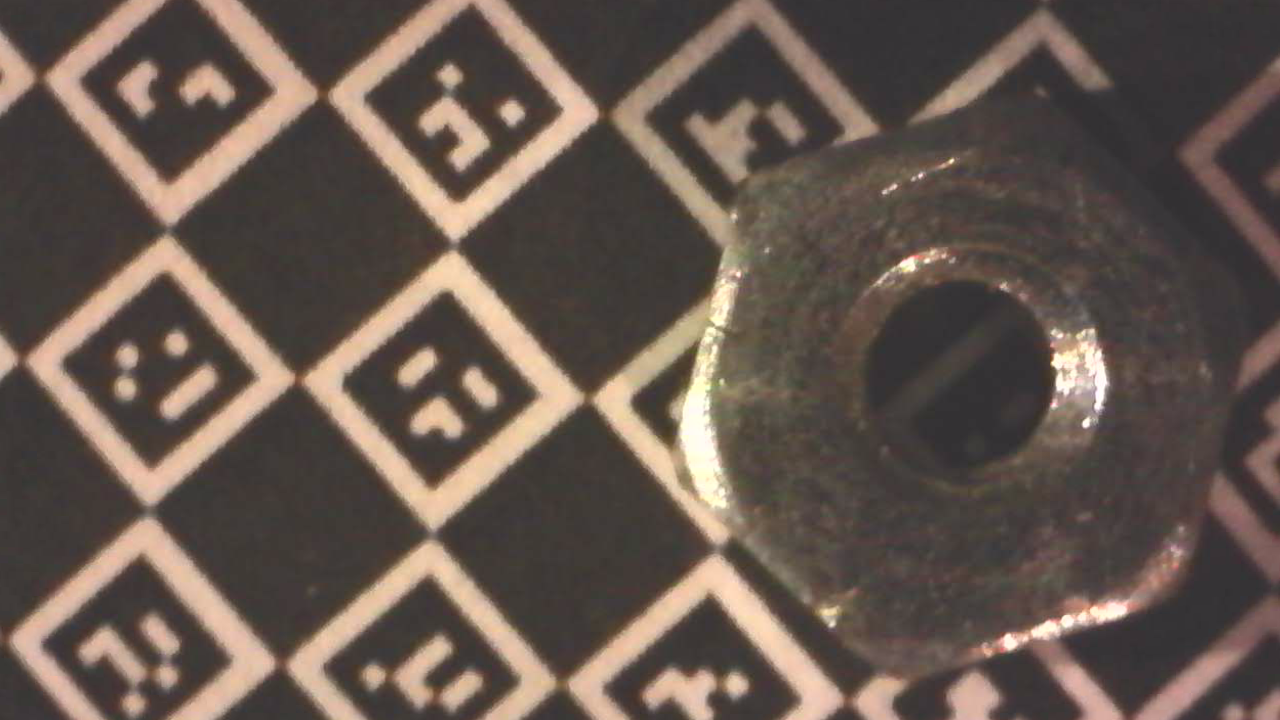Bolt: (681, 94, 1250, 686)
